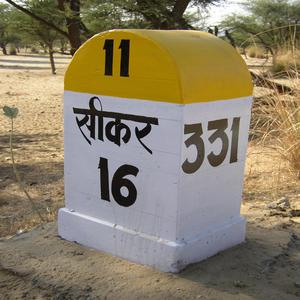kmstone: (61, 25, 252, 277)
